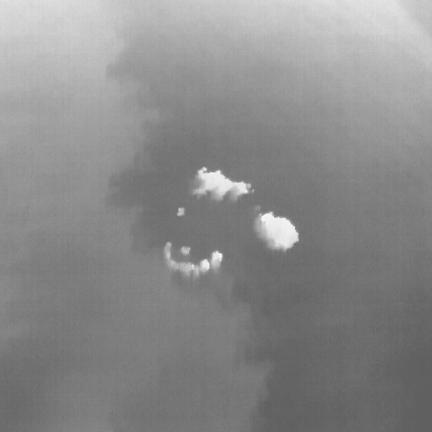flukeprints: (191, 167, 252, 201), (254, 212, 298, 251), (210, 251, 222, 269), (197, 259, 209, 273), (180, 246, 189, 255), (177, 208, 184, 216)
